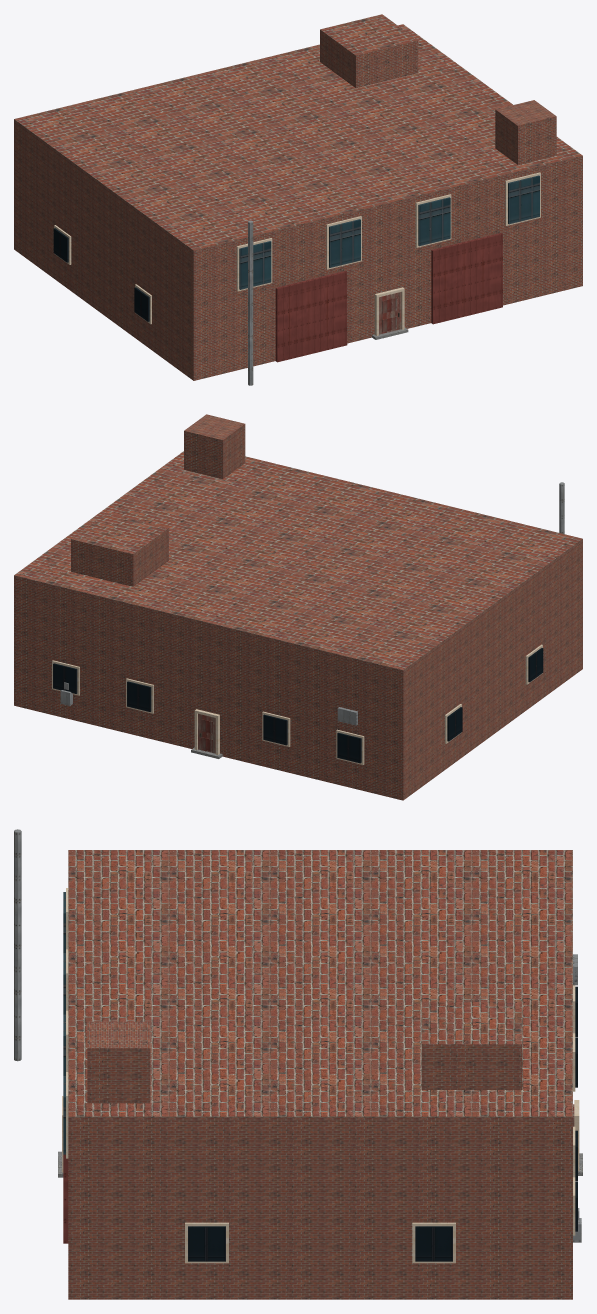
Rendered from fire-station_lod0.gltf.
3 views of the same model, one above another, from view 1: azimuth 30°, elevation 25°; view 2: azimuth 150°, elevation 25°; view 3: azimuth 270°, elevation 25° (orthographic). The views are drawn at different scales.
Visible parts, largest first — view 1: fire-station_tier0, fire-station__bay_door_a, fire-station_tier1, fire-station__bay_door_b, fire-station_fen_07-glass-curtain-blue_5, fire-station__hose_tower, fire-station_fen_04-limestone_0, fire-station__flag_pole, fire-station_fen_07-glass-curtain-blue_6_t, fire-station_fen_19-red-timber_1; view 2: fire-station_tier0, fire-station_tier1, fire-station_fen_07-glass-curtain-blue_6_t, fire-station__hose_tower, fire-station_fen_04-limestone_0, fire-station_fen_14-steel-panel_7; view 3: fire-station_tier0, fire-station_tier1, fire-station__hose_tower, fire-station_fen_07-glass-curtain-blue_6_t, fire-station_fen_04-limestone_0, fire-station__flag_pole, fire-station_fen_07-glass-curtain-blue_5.
Boxes of the visible parts, x1,y1,x2,y2 form: fire-station_tier0: (14, 24, 582, 380); fire-station__bay_door_a: (275, 270, 347, 362); fire-station_tier1: (320, 14, 418, 88); fire-station__bay_door_b: (431, 233, 502, 324); fire-station_fen_07-glass-curtain-blue_5: (239, 175, 539, 289); fire-station__hose_tower: (495, 100, 556, 164); fire-station_fen_04-limestone_0: (54, 172, 540, 335); fire-station__flag_pole: (248, 220, 253, 385); fire-station_fen_07-glass-curtain-blue_6_t: (53, 228, 149, 321); fire-station_fen_19-red-timber_1: (379, 292, 401, 334); fire-station_tier0: (14, 451, 582, 800); fire-station_tier1: (71, 513, 168, 586); fire-station_fen_07-glass-curtain-blue_6_t: (53, 648, 543, 763); fire-station__hose_tower: (184, 414, 245, 479); fire-station_fen_04-limestone_0: (52, 644, 542, 764); fire-station_fen_14-steel-panel_7: (60, 682, 357, 725); fire-station_tier0: (68, 850, 572, 1299); fire-station_tier1: (421, 1001, 522, 1089); fire-station__hose_tower: (87, 1021, 150, 1103); fire-station_fen_07-glass-curtain-blue_6_t: (188, 986, 577, 1261); fire-station_fen_04-limestone_0: (62, 888, 579, 1263); fire-station__flag_pole: (14, 829, 21, 1061); fire-station_fen_07-glass-curtain-blue_5: (63, 892, 65, 1154).
Bounding box in the file's own units: 25.4 × 10.4 × 22.55.
